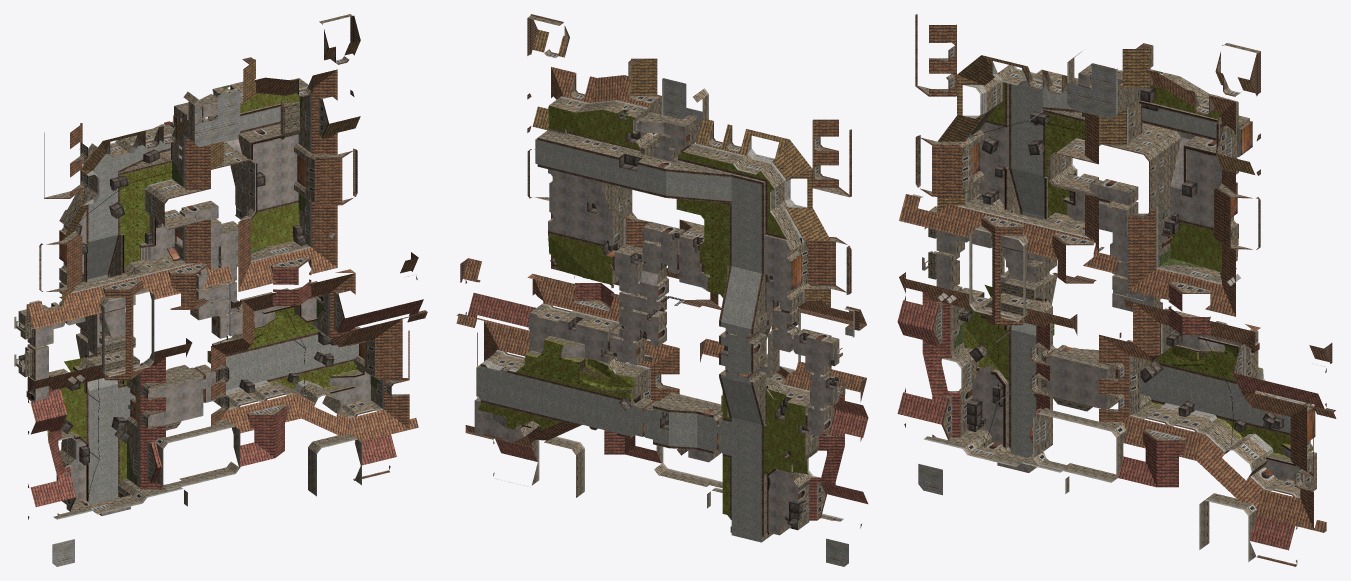
The model's file is Cobblestone.obj.
3 renders of one model, left to right at view 1: azimuth 30°, elevation 25°; view 2: azimuth 150°, elevation 25°; view 3: azimuth 330°, elevation 25°, orthographic. The views are drawn at different scales.
Parts seen in each view (by area): view 1: BSP_Object.model_0.005; view 2: BSP_Object.model_0.005; view 3: BSP_Object.model_0.005.
Part boxes in pixels (left/top/right/bottom): BSP_Object.model_0.005: left=14, top=14, right=427, bottom=566; BSP_Object.model_0.005: left=456, top=14, right=868, bottom=566; BSP_Object.model_0.005: left=897, top=14, right=1336, bottom=566.
Bounding box in the file's own units: 141 × 160 × 24.
45 materials, 45 textured.
